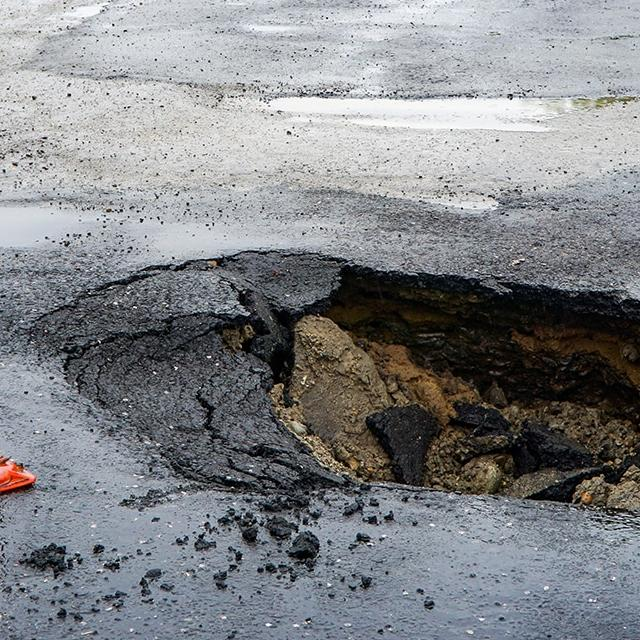lubang_kecil: (21, 206, 640, 536)
